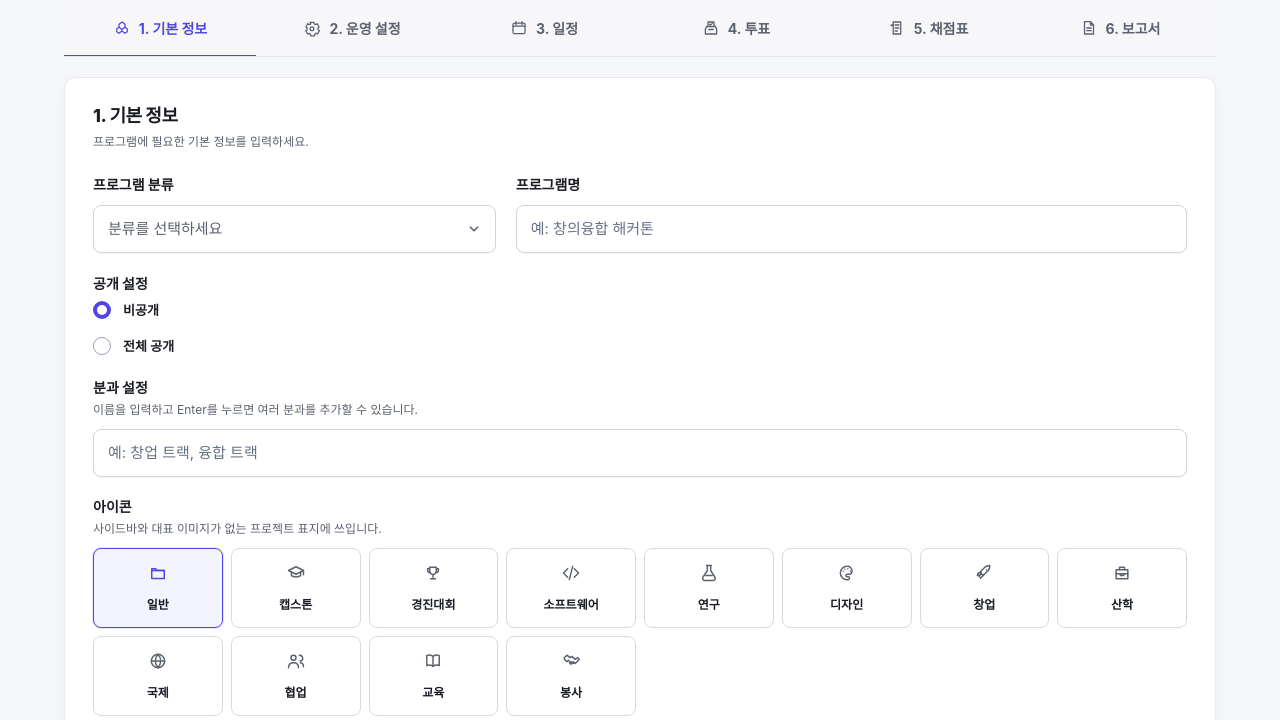
Scenario: ProgramForm › 기본 정보에 분과 설정을 포함하고 채점표·보고서까지 6단계로 탐색한다
The width and height of the screenshot is (1280, 720).
Expected: the button "1. 기본 정보" is shown, [64,0,256,56]
Expected: the radio button labelled "비공개" is checked, [93,298,159,322]
Click the radio button labelled "전체 공개" at x=134, y=346, box [93,334,174,358]
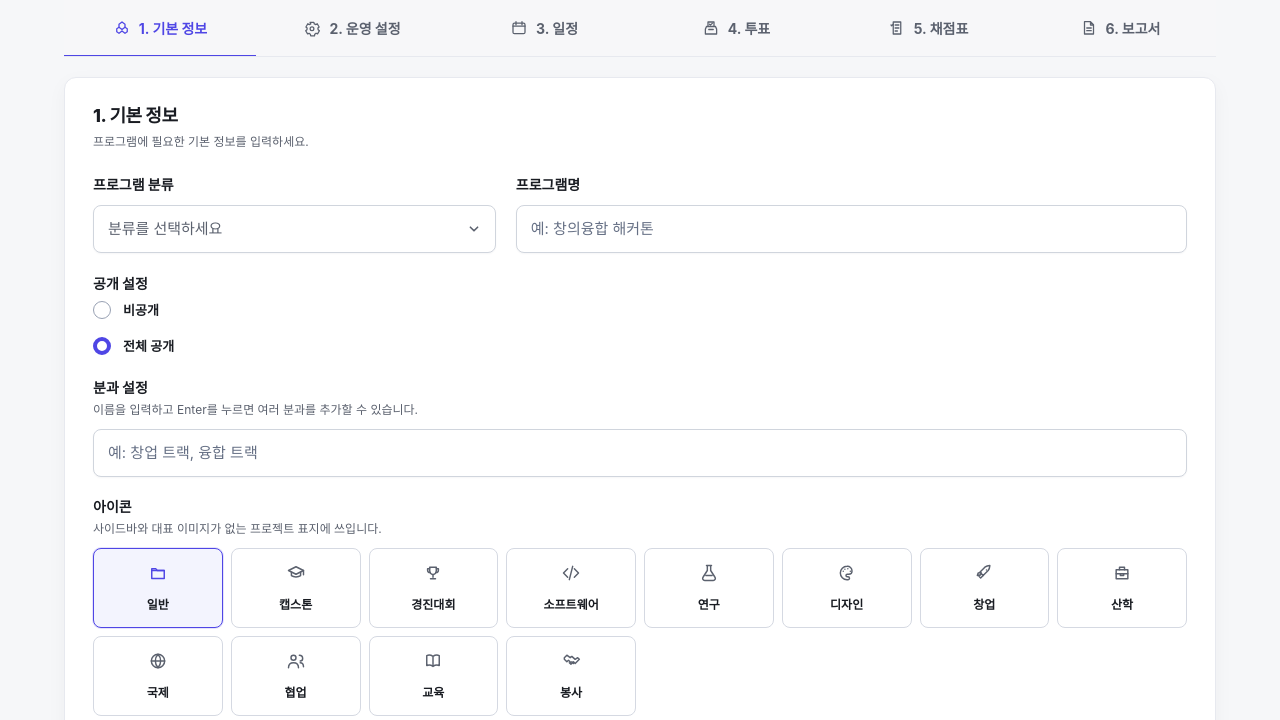
Expected: the button "2. 운영 설정" is shown, [256,0,448,56]
Result: the radio button labelled "전체 공개" is checked at [93,334,174,358]
Click the button "5. 채점표" at x=928, y=28, box [832,0,1024,56]
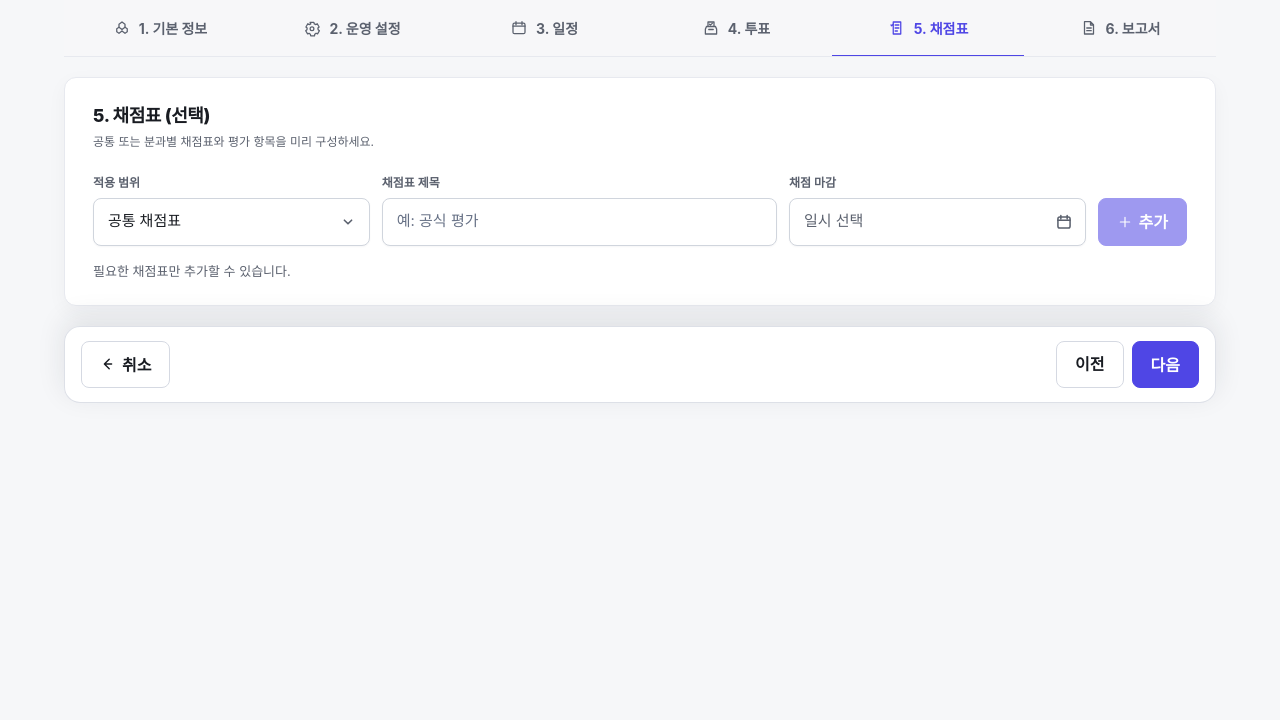
Result: the heading "5. 채점표 (선택)" is shown at [93,105,210,126]
Click the button "6. 보고서" at x=1120, y=28, box [1024,0,1216,56]
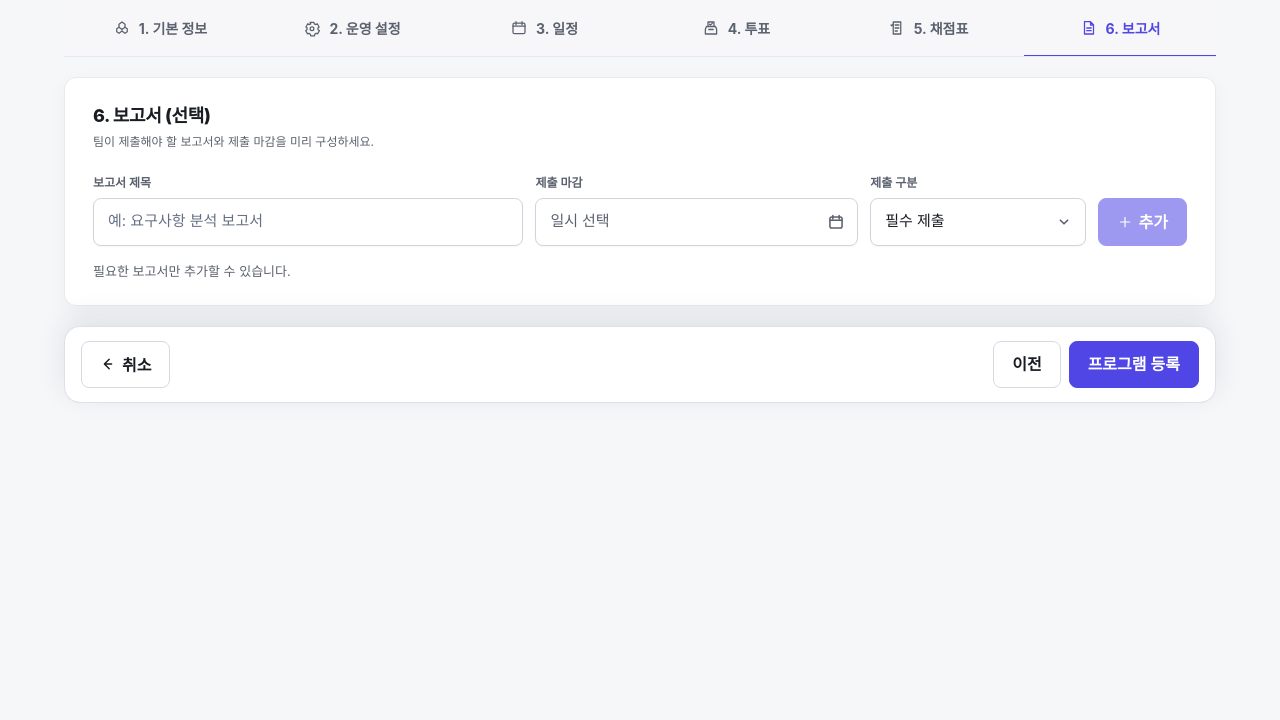
Result: the heading "6. 보고서 (선택)" is shown at [93,105,210,126]
Click the button "1. 기본 정보" at x=160, y=28, box [64,0,256,56]
(page scrolled)
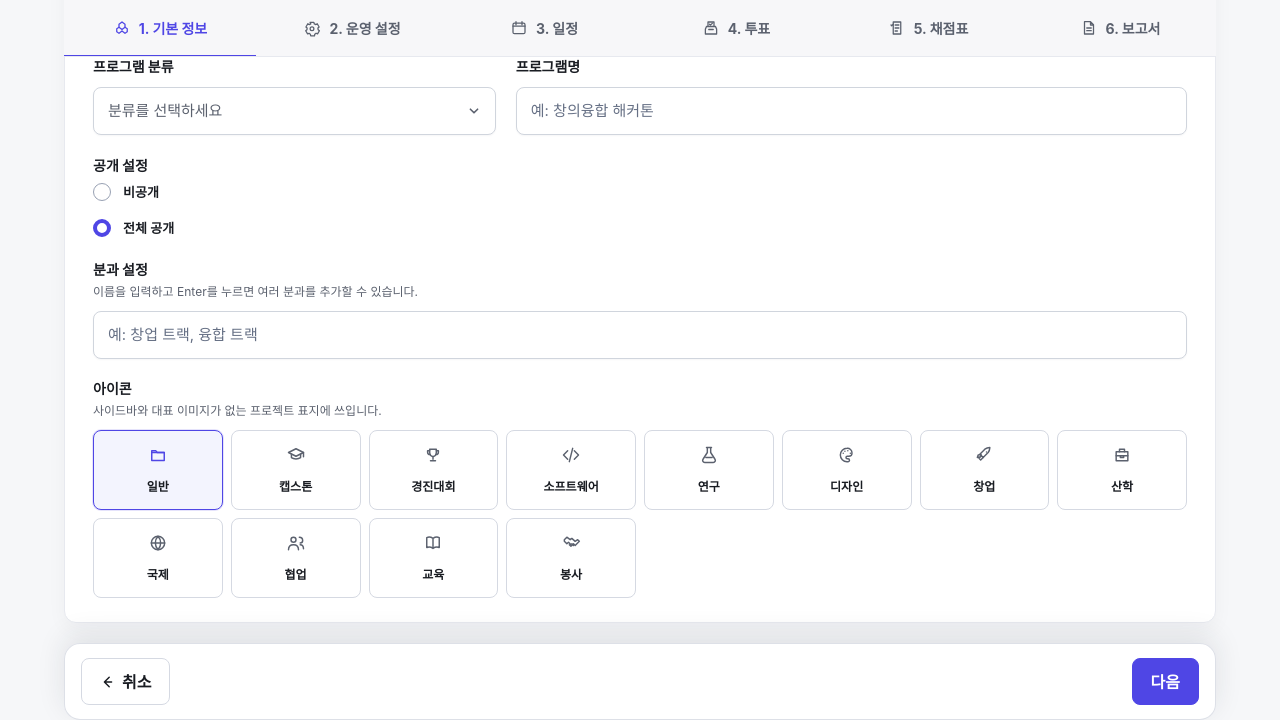
Click the button "다음" at x=1165, y=682, box [1132,658,1199,705]
(page scrolled)
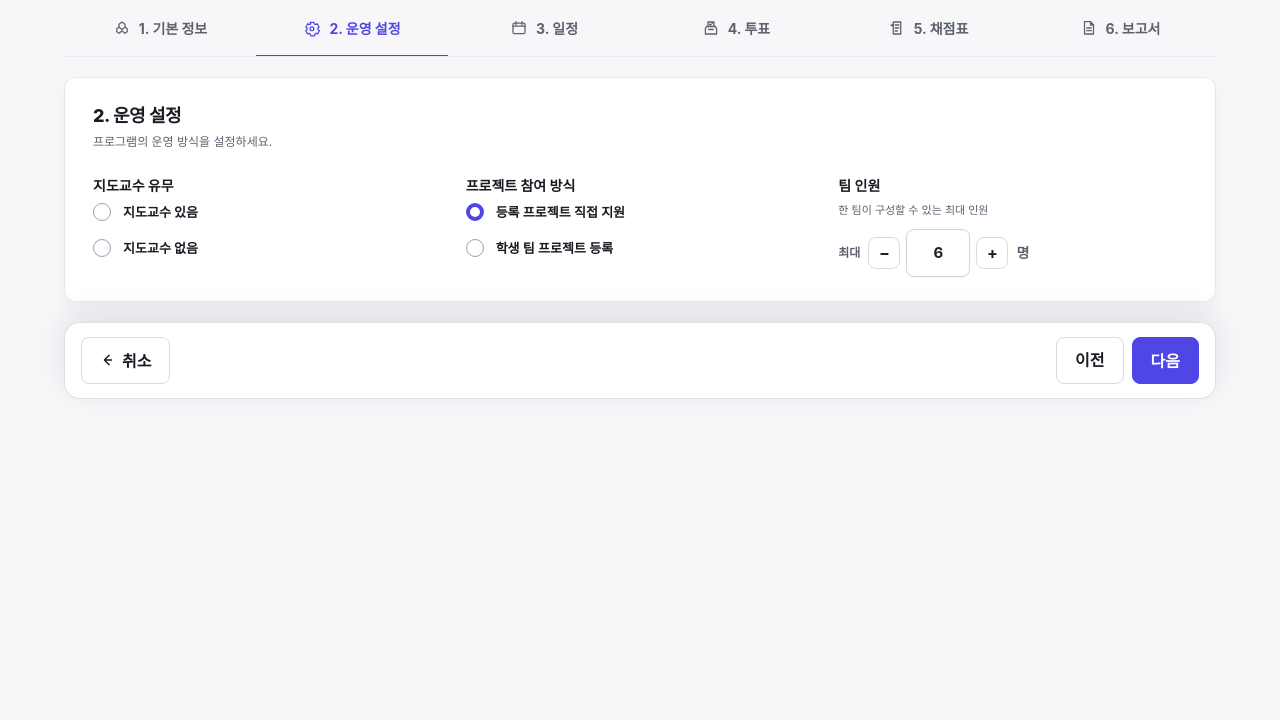
Result: the heading "2. 운영 설정" is shown at [93,105,181,126]
Result: the button "이전" is shown at [1056,337,1124,384]
